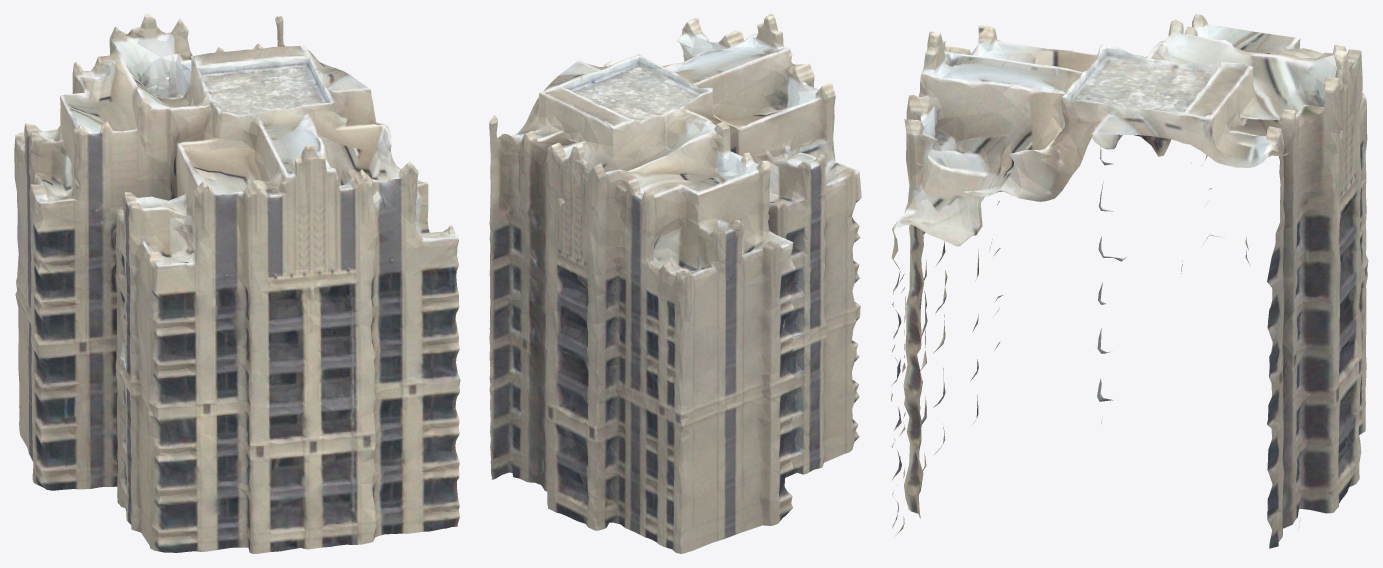
The model's file is Tile__004__001_L21_0001110t3.glb.
3 views of the same model, side by side, from view 1: azimuth 30°, elevation 25°; view 2: azimuth 150°, elevation 25°; view 3: azimuth 270°, elevation 25° (orthographic). The views are drawn at different scales.
Visible parts, largest first — view 1: root; view 2: root; view 3: root.
Part boxes in pixels (box(x1,y1,x2,y2)): root: box(14, 14, 460, 553); root: box(489, 14, 861, 553); root: box(891, 14, 1368, 548).
Size of the model in its own units: 15.42 by 21.06 by 20.26.
Materials: 4 (4 with a texture image).
